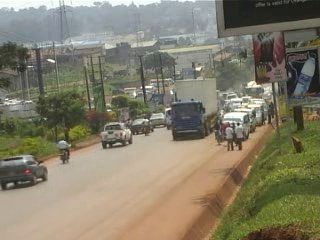Car: (0, 152, 51, 191), (129, 118, 152, 136), (147, 110, 166, 128)
Motorcycle: (54, 136, 72, 165), (140, 116, 153, 136)
